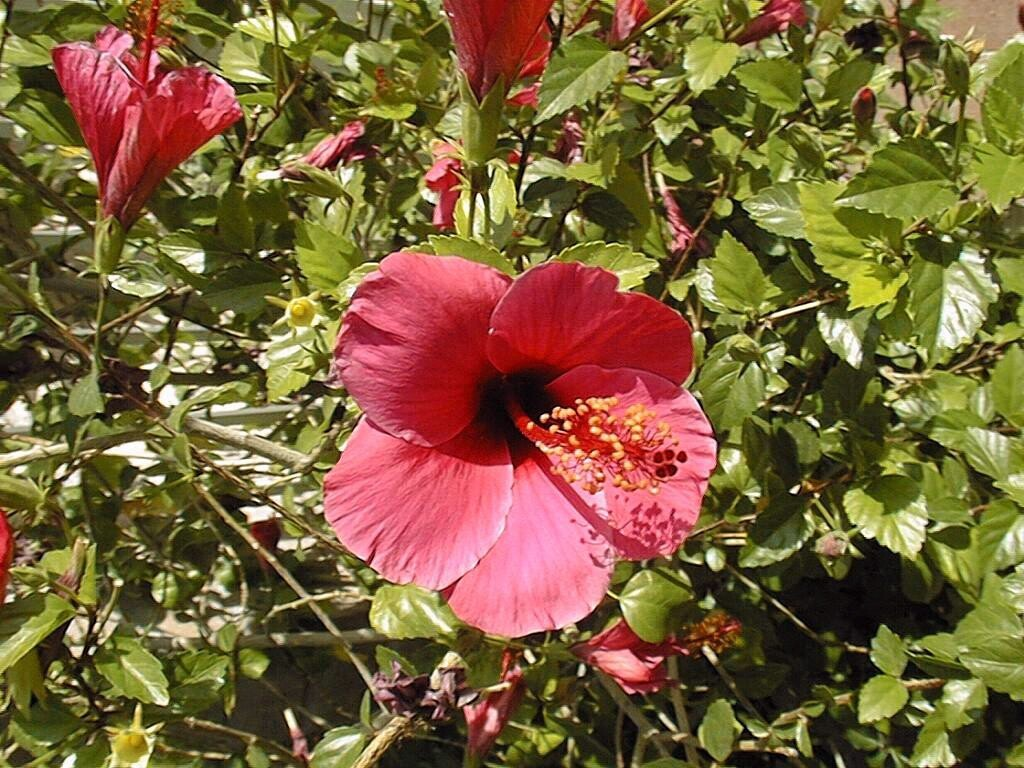Hibiscus-rosa-sinesis: (326, 251, 715, 637), (49, 3, 236, 217)
